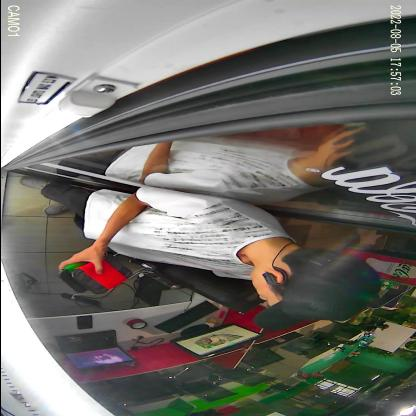green: (56, 253, 112, 294)
red: (69, 255, 133, 296)
